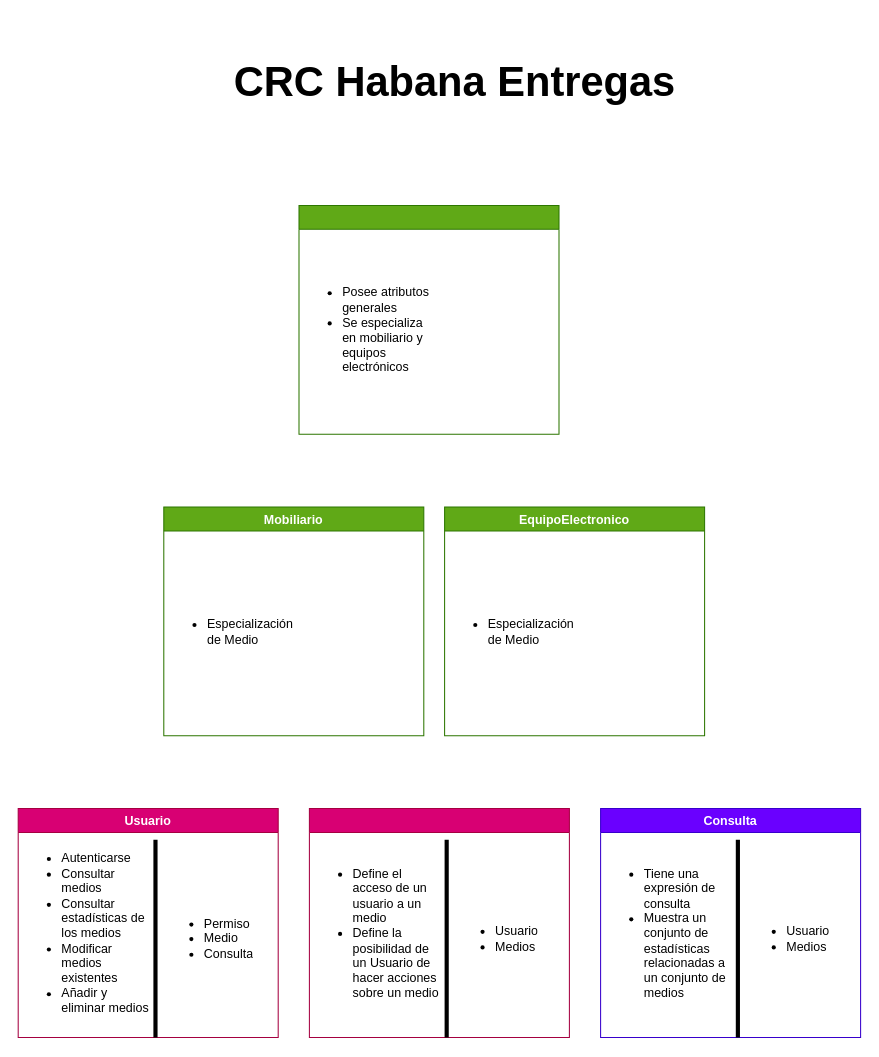
Some shapes in this 879 by 1057 pixel diagram are drawn without their labels. The shapes that lost their labels are listed below. From the top down, each one's box as (x1, y1, x2, y2) in pixels, then its label:
(298, 204, 559, 434): Medio
(308, 808, 569, 1037): Permiso
